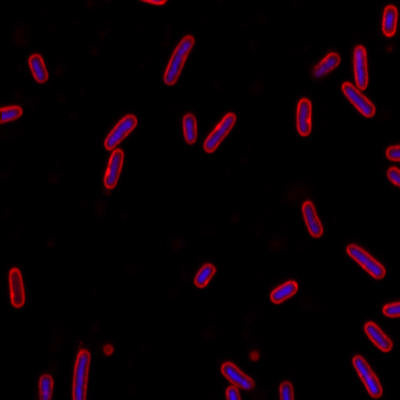Oblique: (220, 359, 257, 393), (309, 51, 342, 79)
Rifampicin: (162, 33, 196, 87), (346, 242, 387, 281), (351, 354, 384, 400), (340, 79, 376, 119), (202, 112, 238, 152), (102, 114, 138, 151), (361, 320, 395, 353), (101, 148, 126, 190), (300, 200, 323, 239), (351, 44, 370, 91), (267, 280, 300, 304), (26, 52, 48, 85), (295, 97, 313, 137), (382, 2, 400, 40), (192, 263, 216, 288), (180, 113, 198, 144)
Vesicle: (99, 343, 115, 357), (248, 348, 261, 362)
